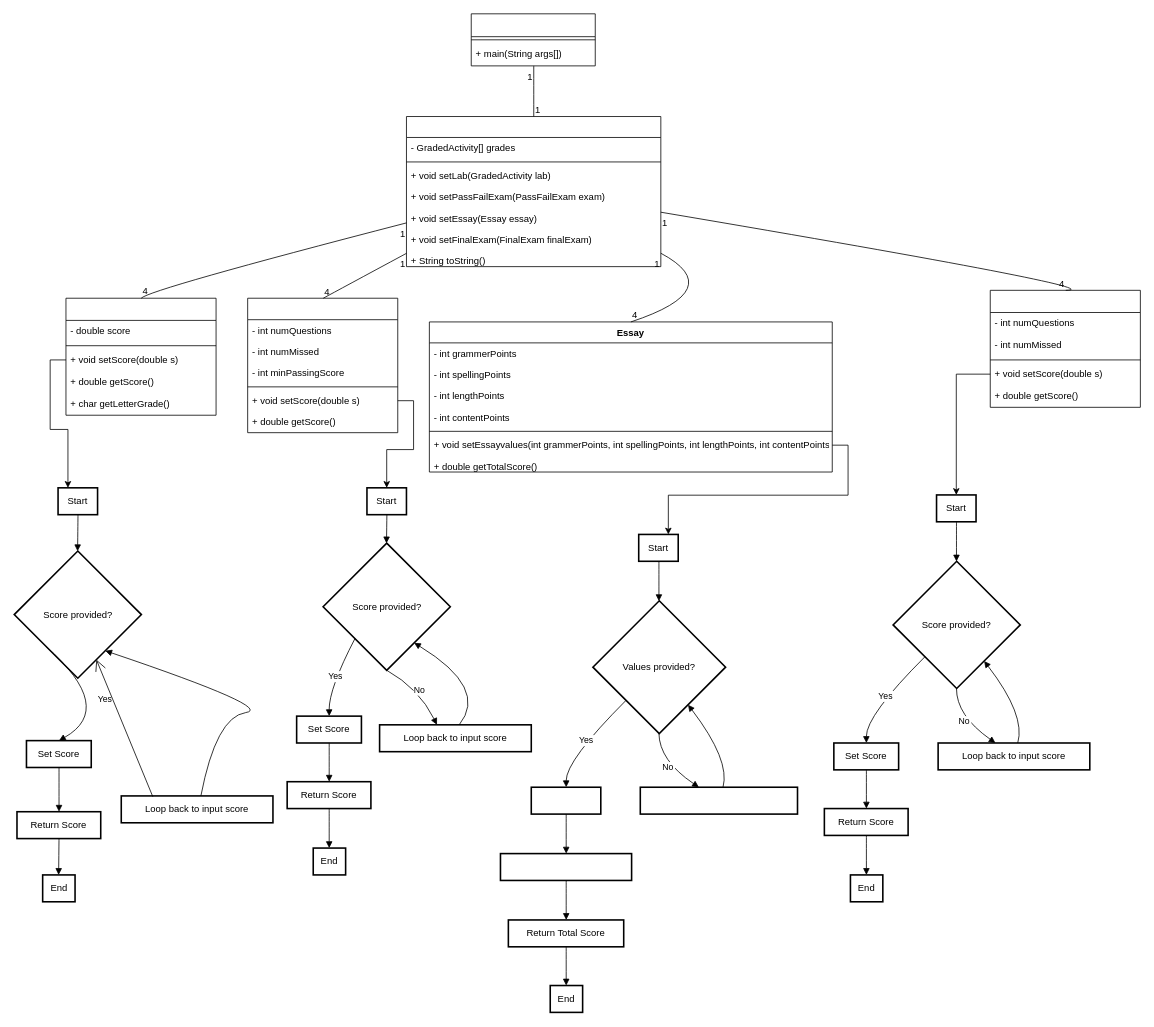
Image size: 1154x1027. Some labels were removed from this diagram. Each missing label, with the box of its shape:
Calculate Total Score: (499, 852, 632, 881)
CourseGradeDemo: (470, 13, 595, 66)
CourseGrades: (406, 116, 661, 267)
FinalExam: (989, 290, 1140, 407)
GradedActivity: (65, 297, 216, 415)
Loop back to input values: (639, 786, 798, 814)
PassFailExam: (247, 297, 398, 433)
Set Values: (530, 786, 601, 814)
